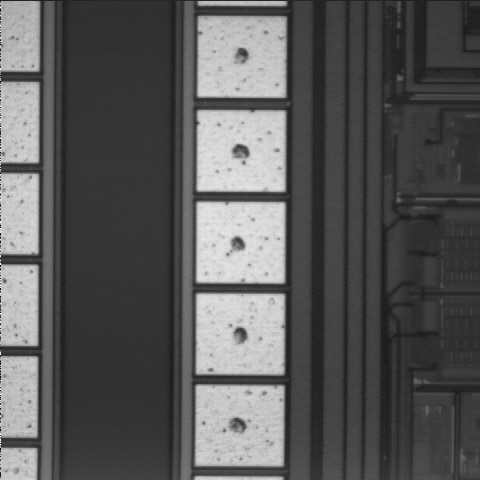pad: (197, 110, 285, 192), (197, 202, 285, 283), (196, 294, 284, 374), (196, 386, 284, 466), (198, 17, 285, 97)
